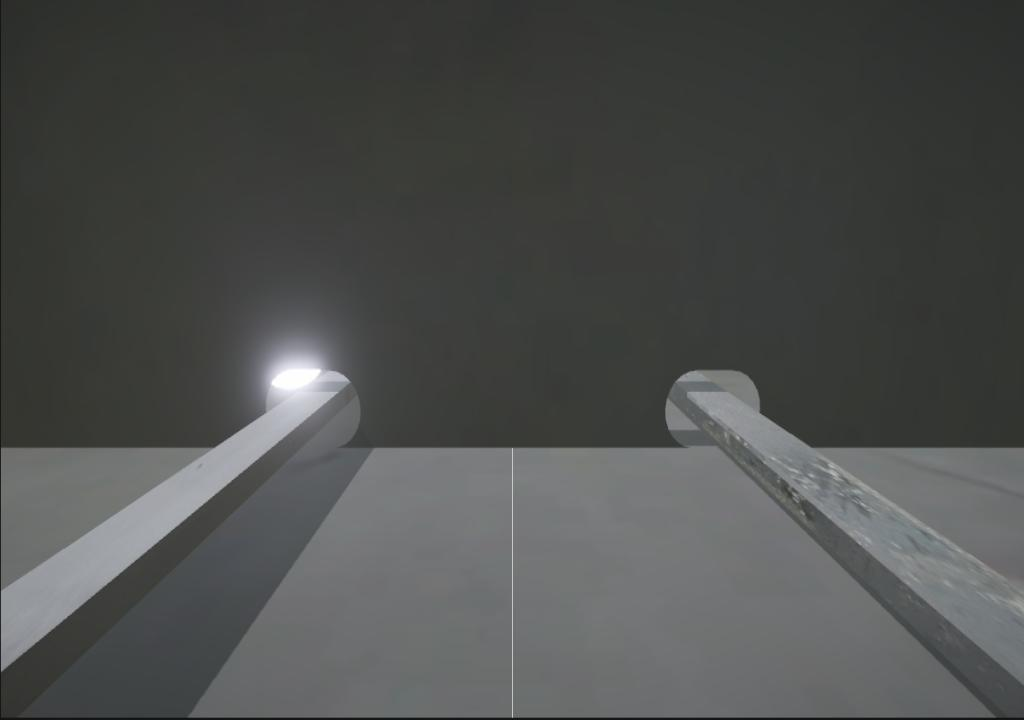fillet_yong_jeop_jang: (335, 437, 693, 462)
